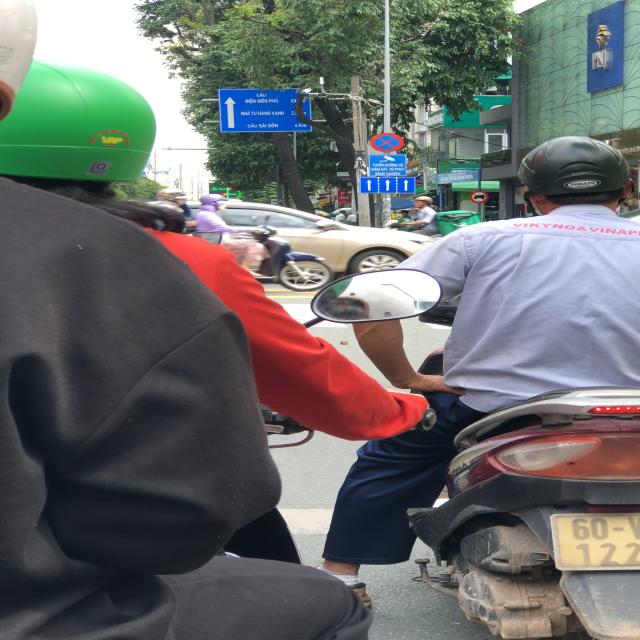Bien bao cam dung xe va do xe: (365, 130, 407, 154)
